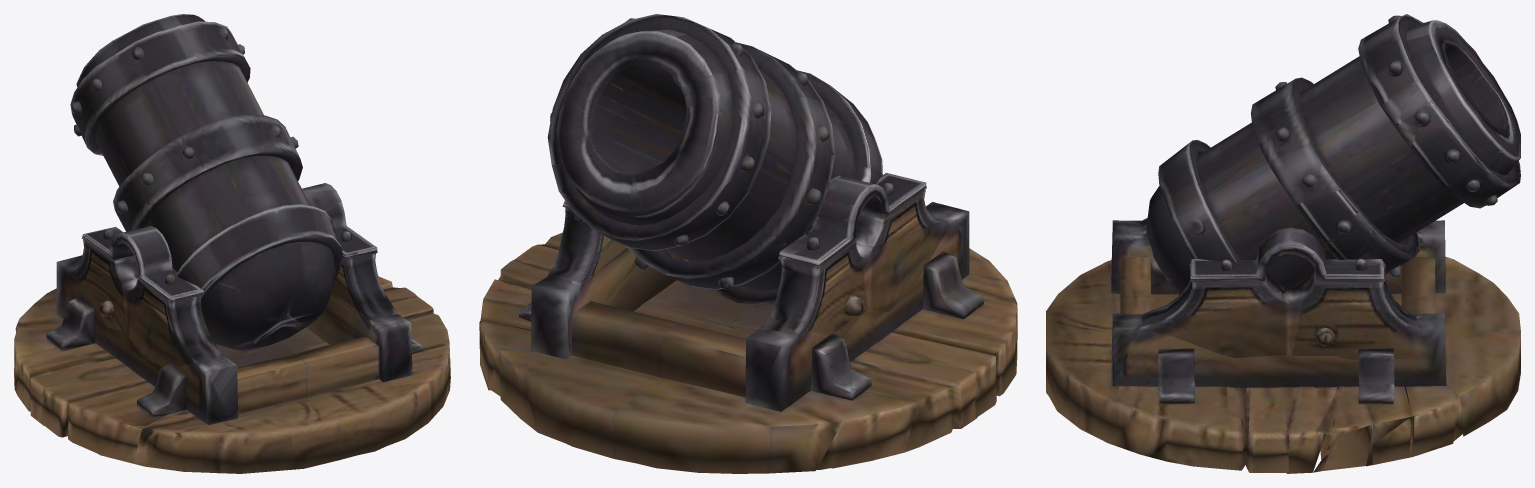
File: mortar.glb
The picture shows the model from 3 angles, left to right: view 1: azimuth 30°, elevation 25°; view 2: azimuth 150°, elevation 25°; view 3: azimuth 270°, elevation 25°; orthographic projection. The views are drawn at different scales.
Bounding box in the file's own units: 2.2 × 1.78 × 2.2.
1 material, 1 textured.
